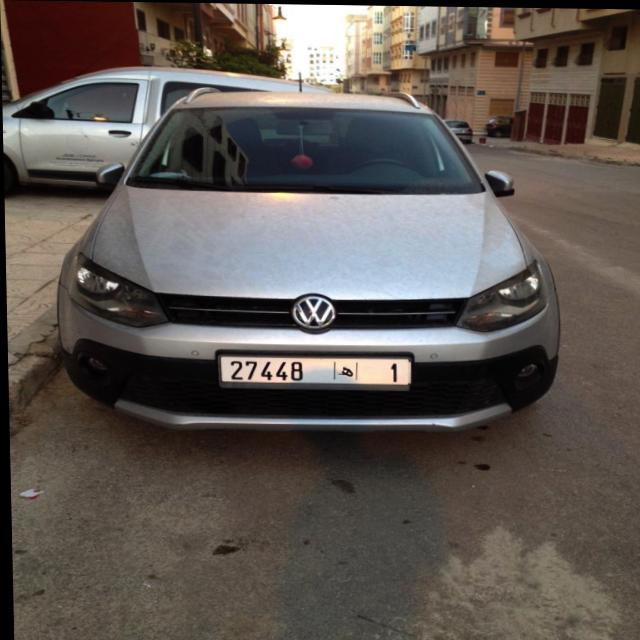License-Plate: (216, 355, 410, 389)
